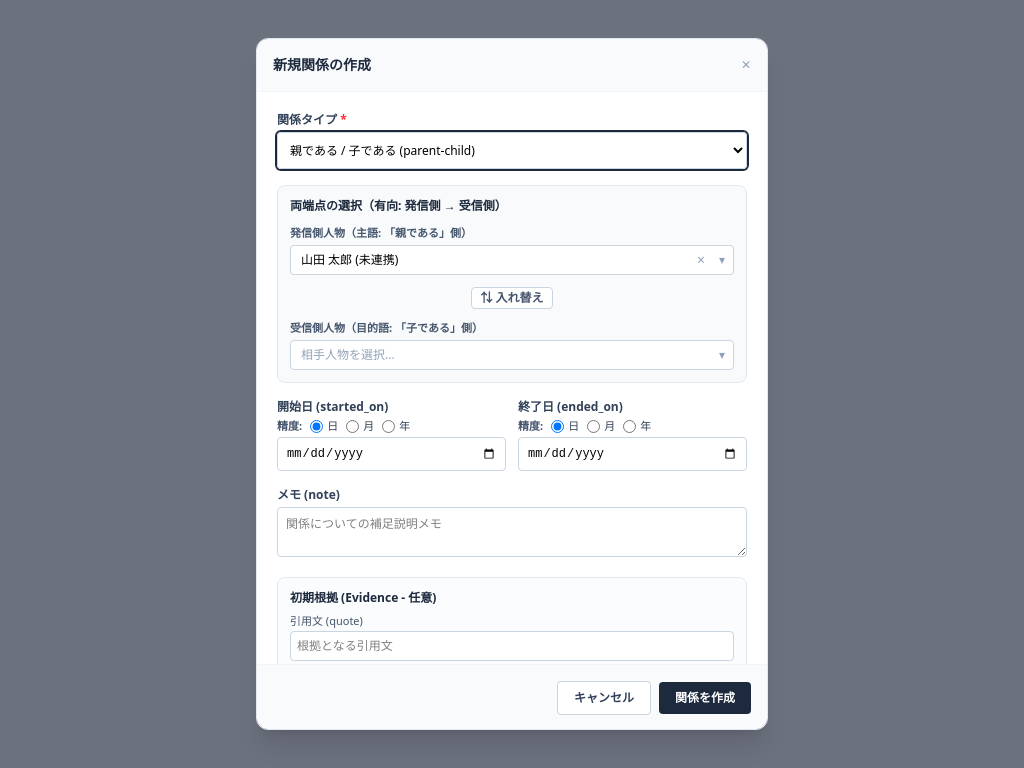
Person Relations UI Components › RelationFormModal rejects inverted mixed-precision dates
Focus the dropdown with placeholder "相手人物を選択...". click: coordinates (501, 355)
box: top-left (291, 341), bottom-right (711, 369)
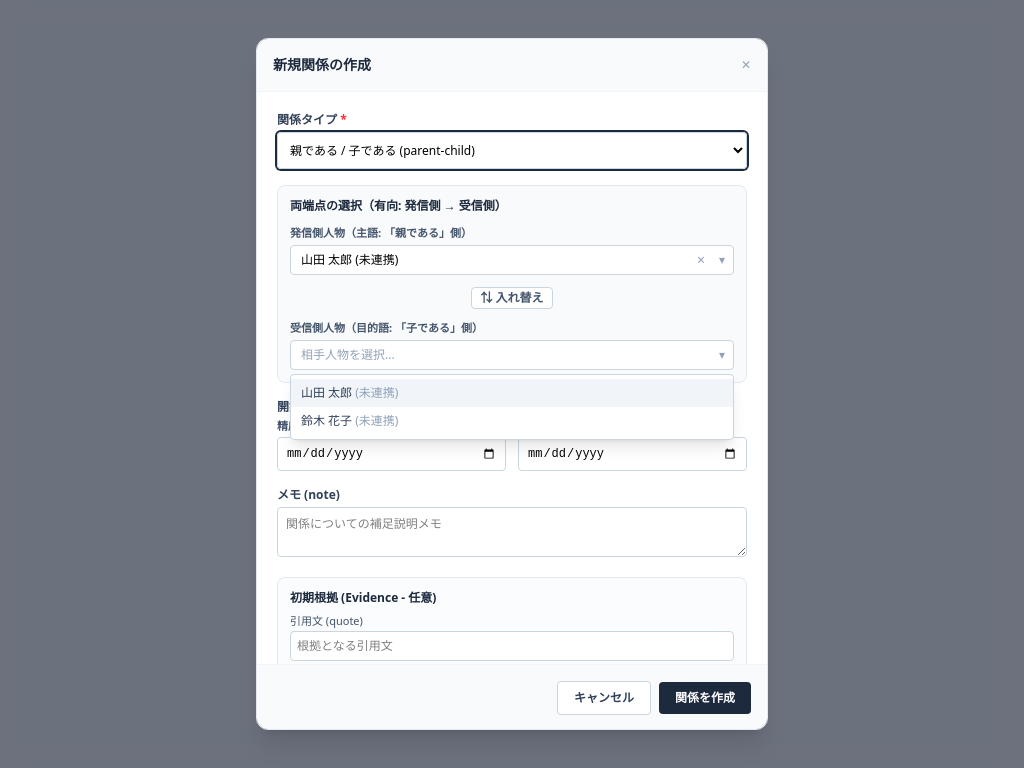
Click the option "鈴木 花子 (未連携)". click: coordinates (327, 420)
box: top-left (291, 407), bottom-right (733, 435)
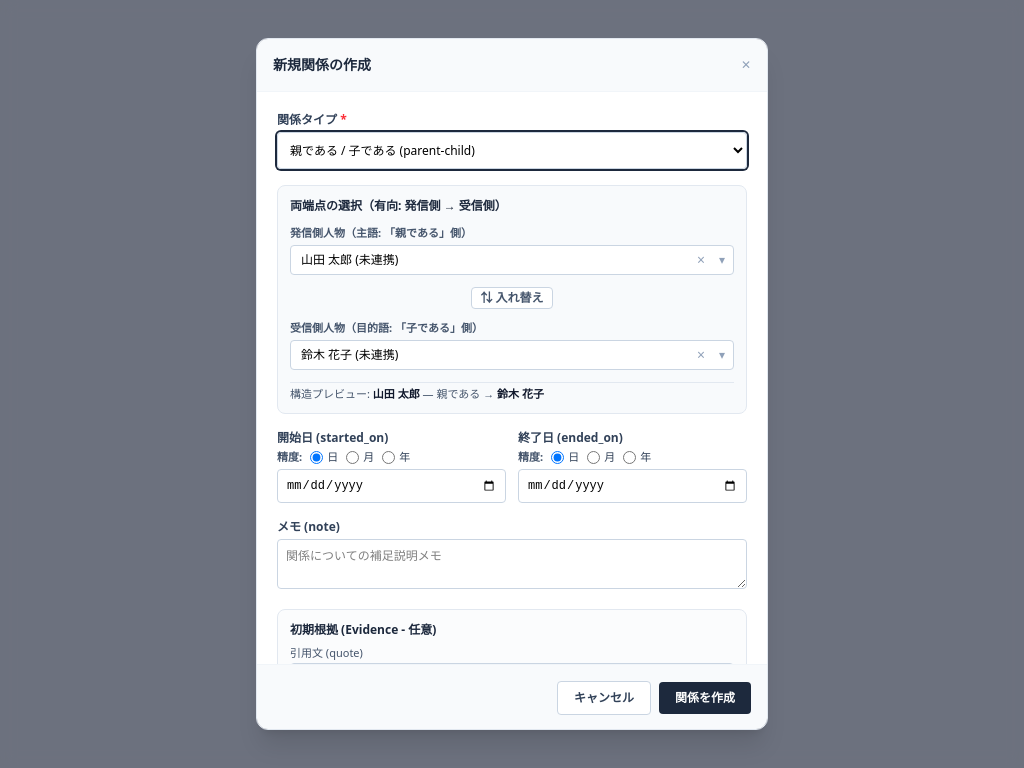
Click the radio button labelled "月" below "開始日 (started_on)". click: coordinates (353, 458)
box: top-left (346, 451), bottom-right (359, 464)
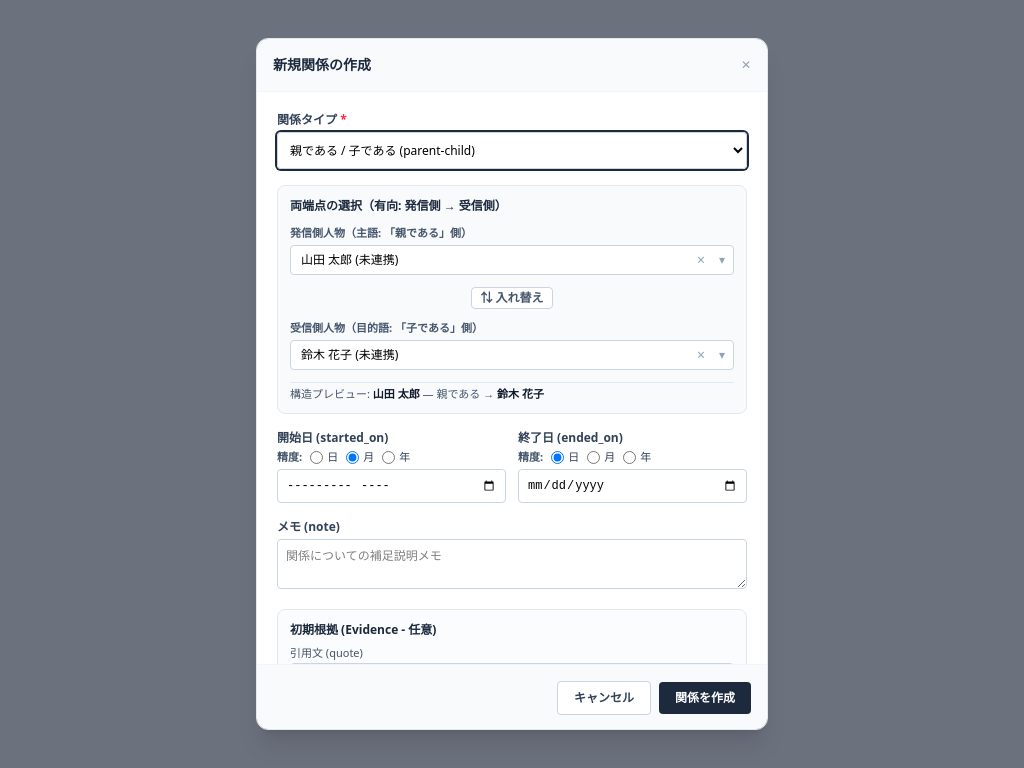
Type "2024-05" into the field named "開始日 月". click: coordinates (392, 486)
box: top-left (277, 469), bottom-right (506, 503)
Click the radio button labelled "月" below "終了日 (ended_on)". click: coordinates (594, 458)
box: top-left (587, 451), bottom-right (600, 464)
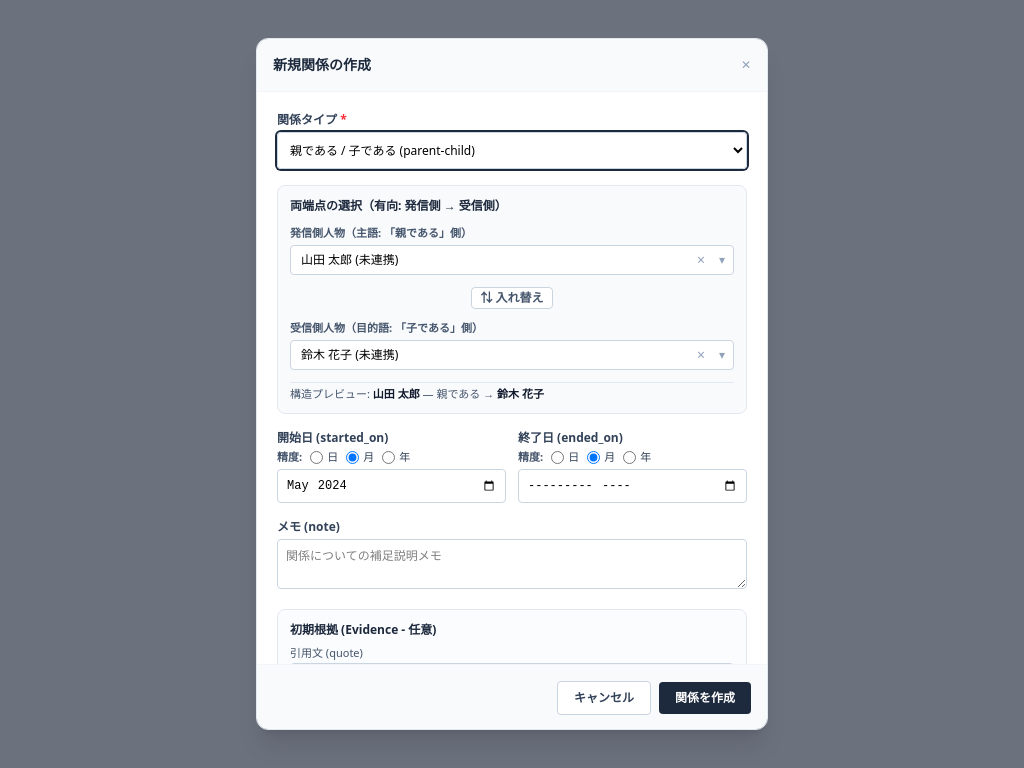
Type "2023-05" into the field named "終了日 月". click: coordinates (632, 486)
box: top-left (518, 469), bottom-right (747, 503)
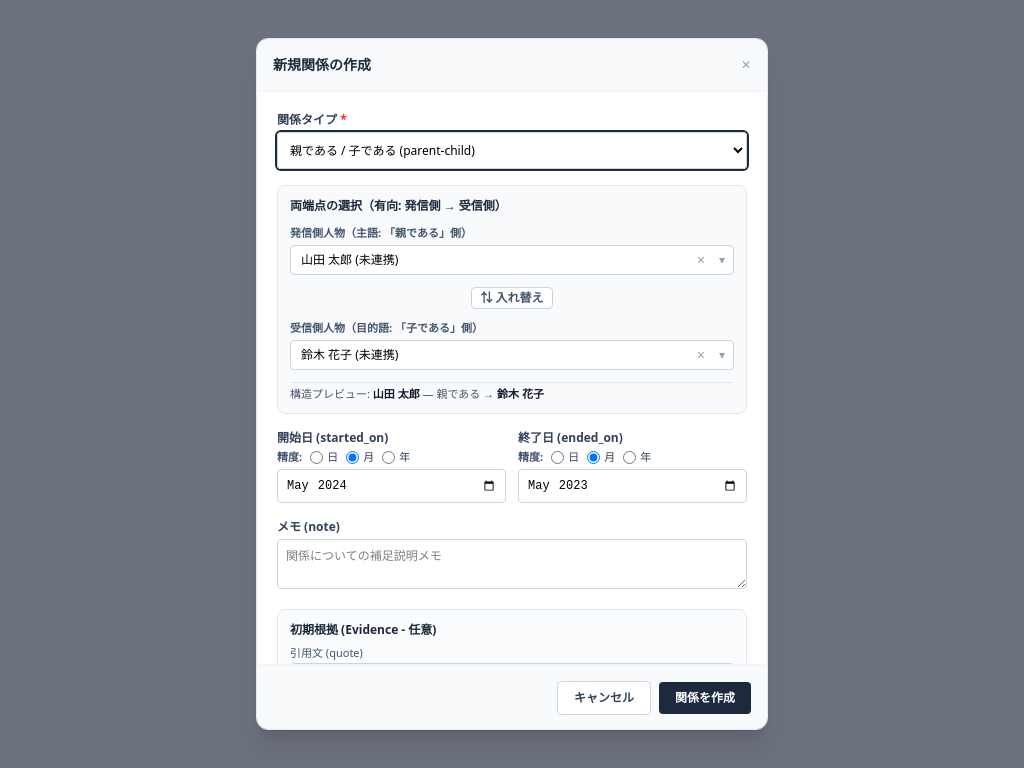
Click the button "関係を作成". click: coordinates (705, 698)
box: top-left (659, 682), bottom-right (751, 714)
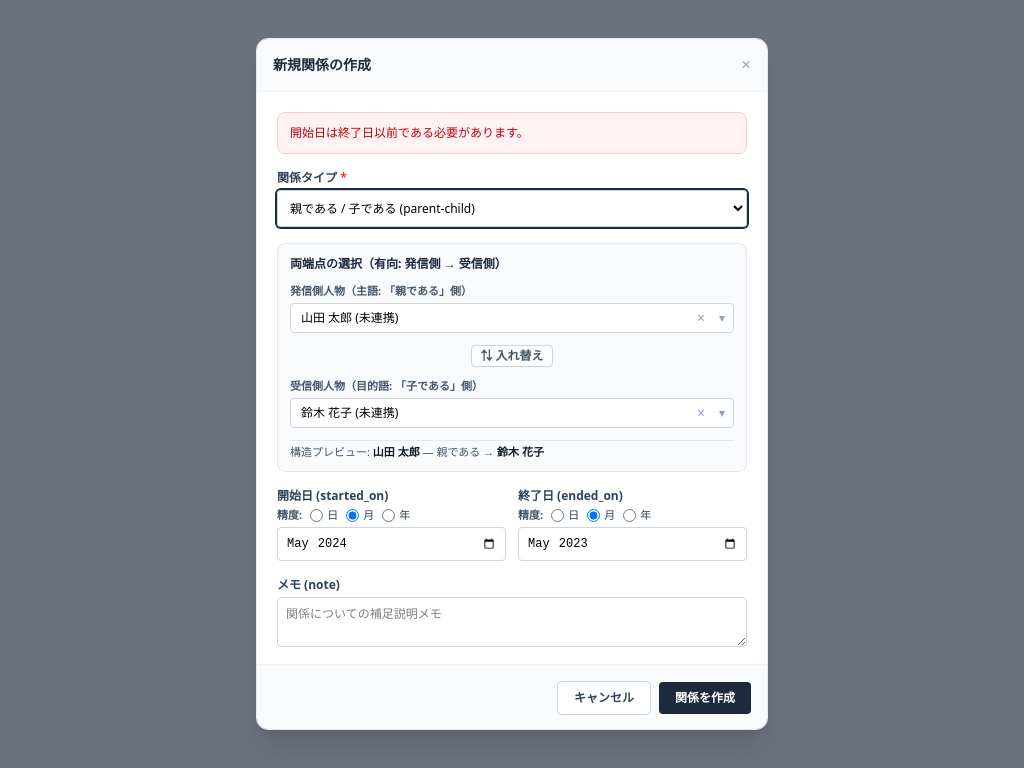
Expected: the text "開始日は終了日以前である必要があります。" is shown, top-left (277, 112), bottom-right (747, 154)
